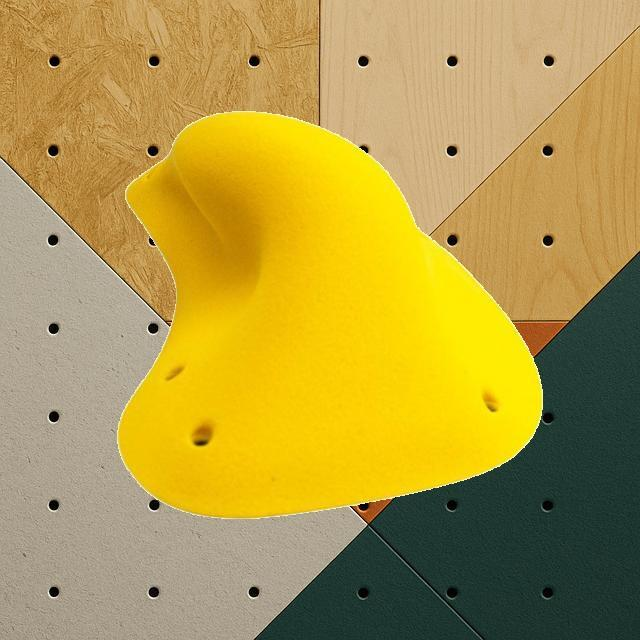Jug: (116, 110, 544, 518)
